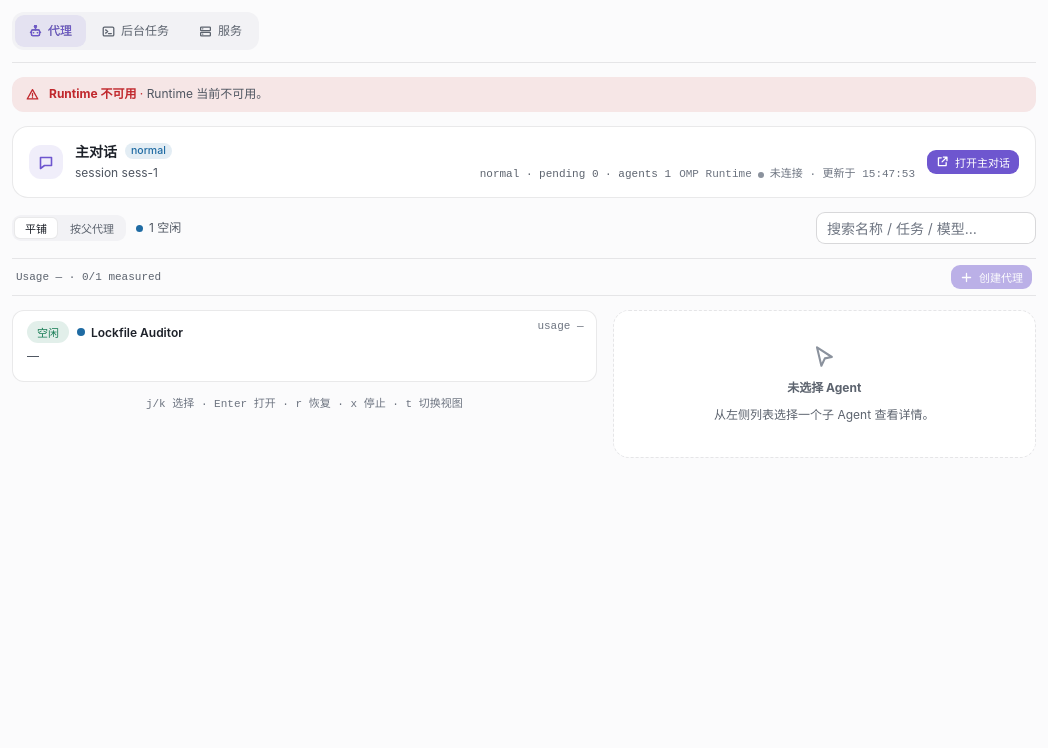
Scenario: AgentHubPage real-mode projection › keeps the selected agent when search filters it out of the list
Click the option "空闲 Lockfile Auditor — usage —".
click(48, 332)  # box top-left (12, 310), bottom-right (597, 382)
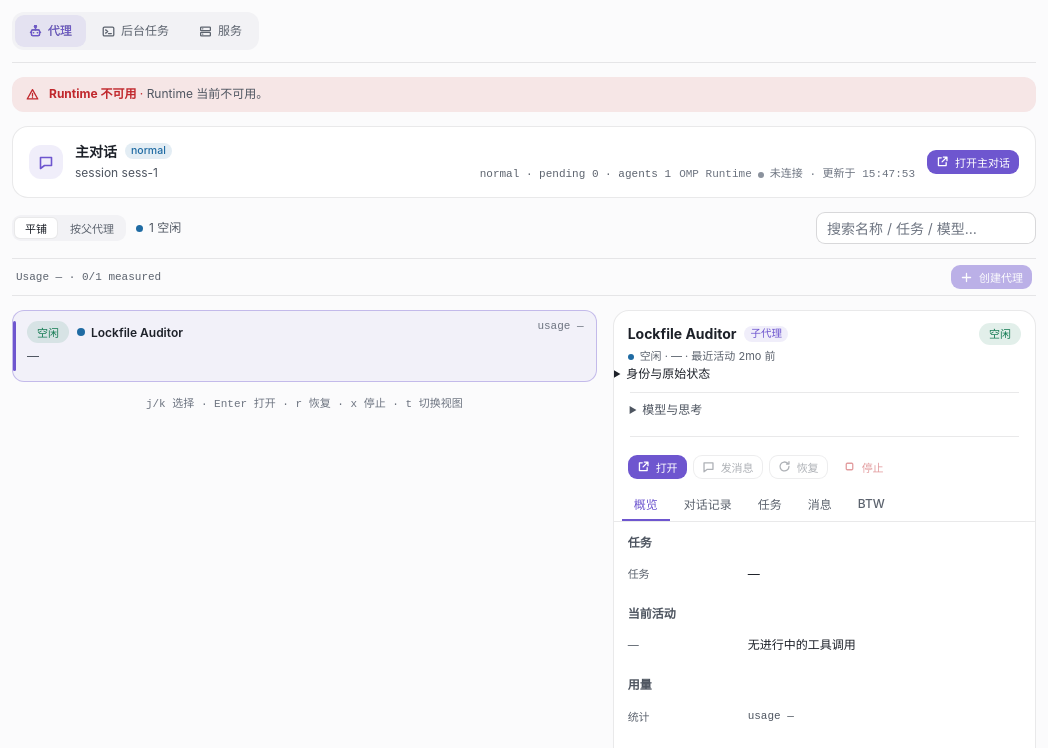
Type "zzz-no-match" into the search field named "搜索 Agent".
click(926, 228); type("zzz-no-match")  # box top-left (816, 212), bottom-right (1036, 244)
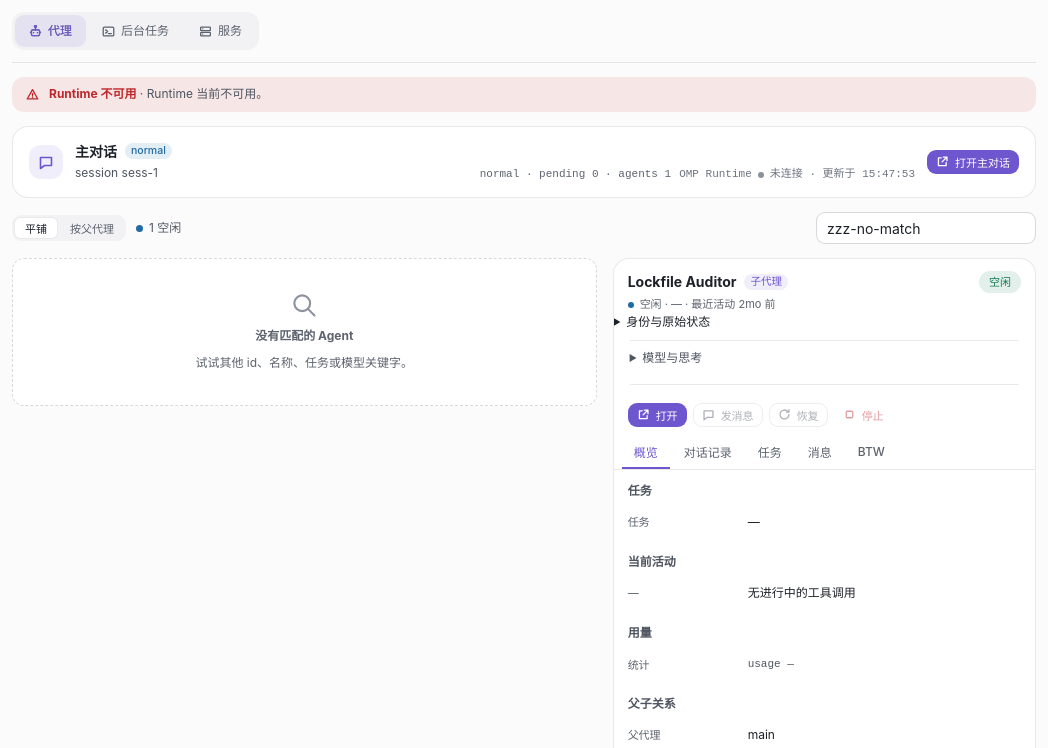
Expected: the button "打开" is shown, top-left (628, 403), bottom-right (687, 427)
Now the text "没有匹配的 Agent" is shown, box top-left (255, 327), bottom-right (353, 346)
